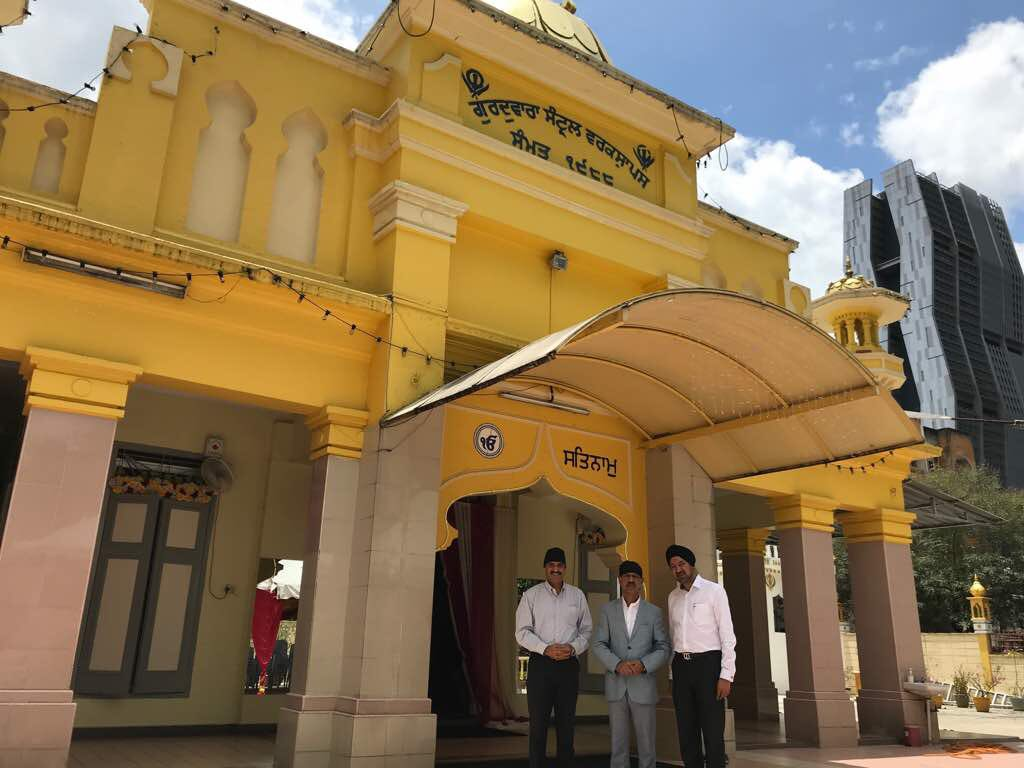Gurdwara: (1, 3, 914, 621)
